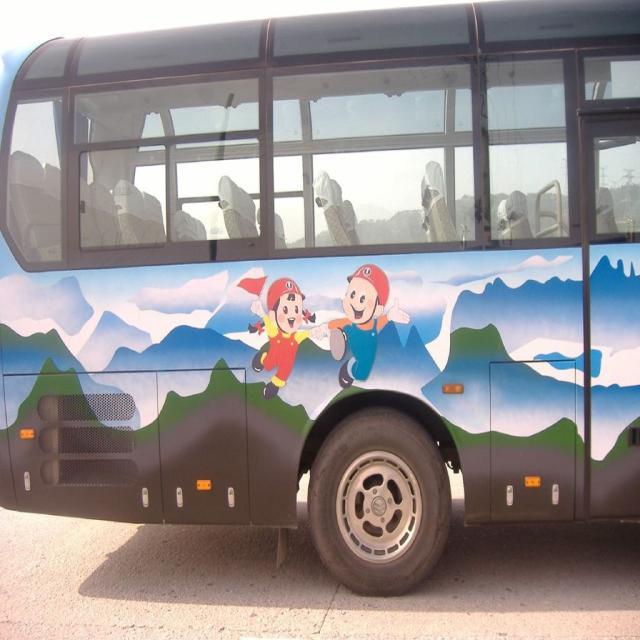Buses: (1, 1, 640, 597)
